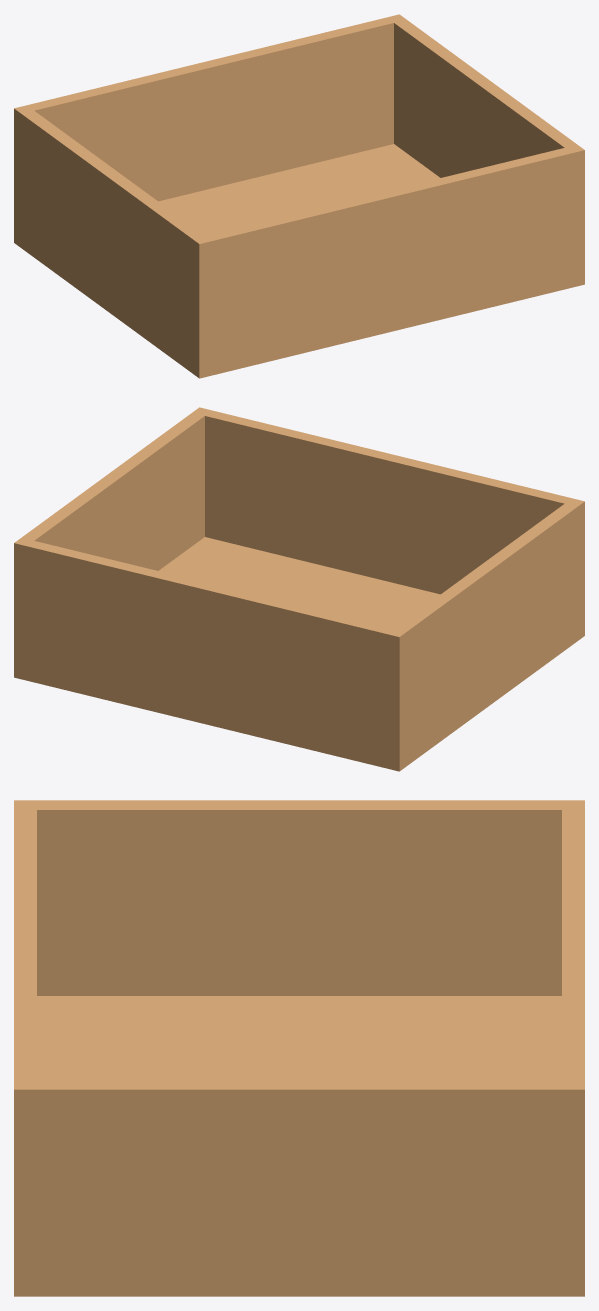
Rendered from wooden_box.dae.
The picture shows the model from 3 angles, top to bottom: view 1: azimuth 30°, elevation 25°; view 2: azimuth 150°, elevation 25°; view 3: azimuth 270°, elevation 25°; orthographic projection. The views are drawn at different scales.
Parts seen in each view (by area): view 1: Cube; view 2: Cube; view 3: Cube.
Part boxes in pixels (x1=…): Cube: x1=14, y1=14, x2=584, y2=378; Cube: x1=14, y1=407, x2=584, y2=771; Cube: x1=14, y1=800, x2=584, y2=1296.
Bounding box in the file's own units: 0.3 × 0.25 × 0.1.
